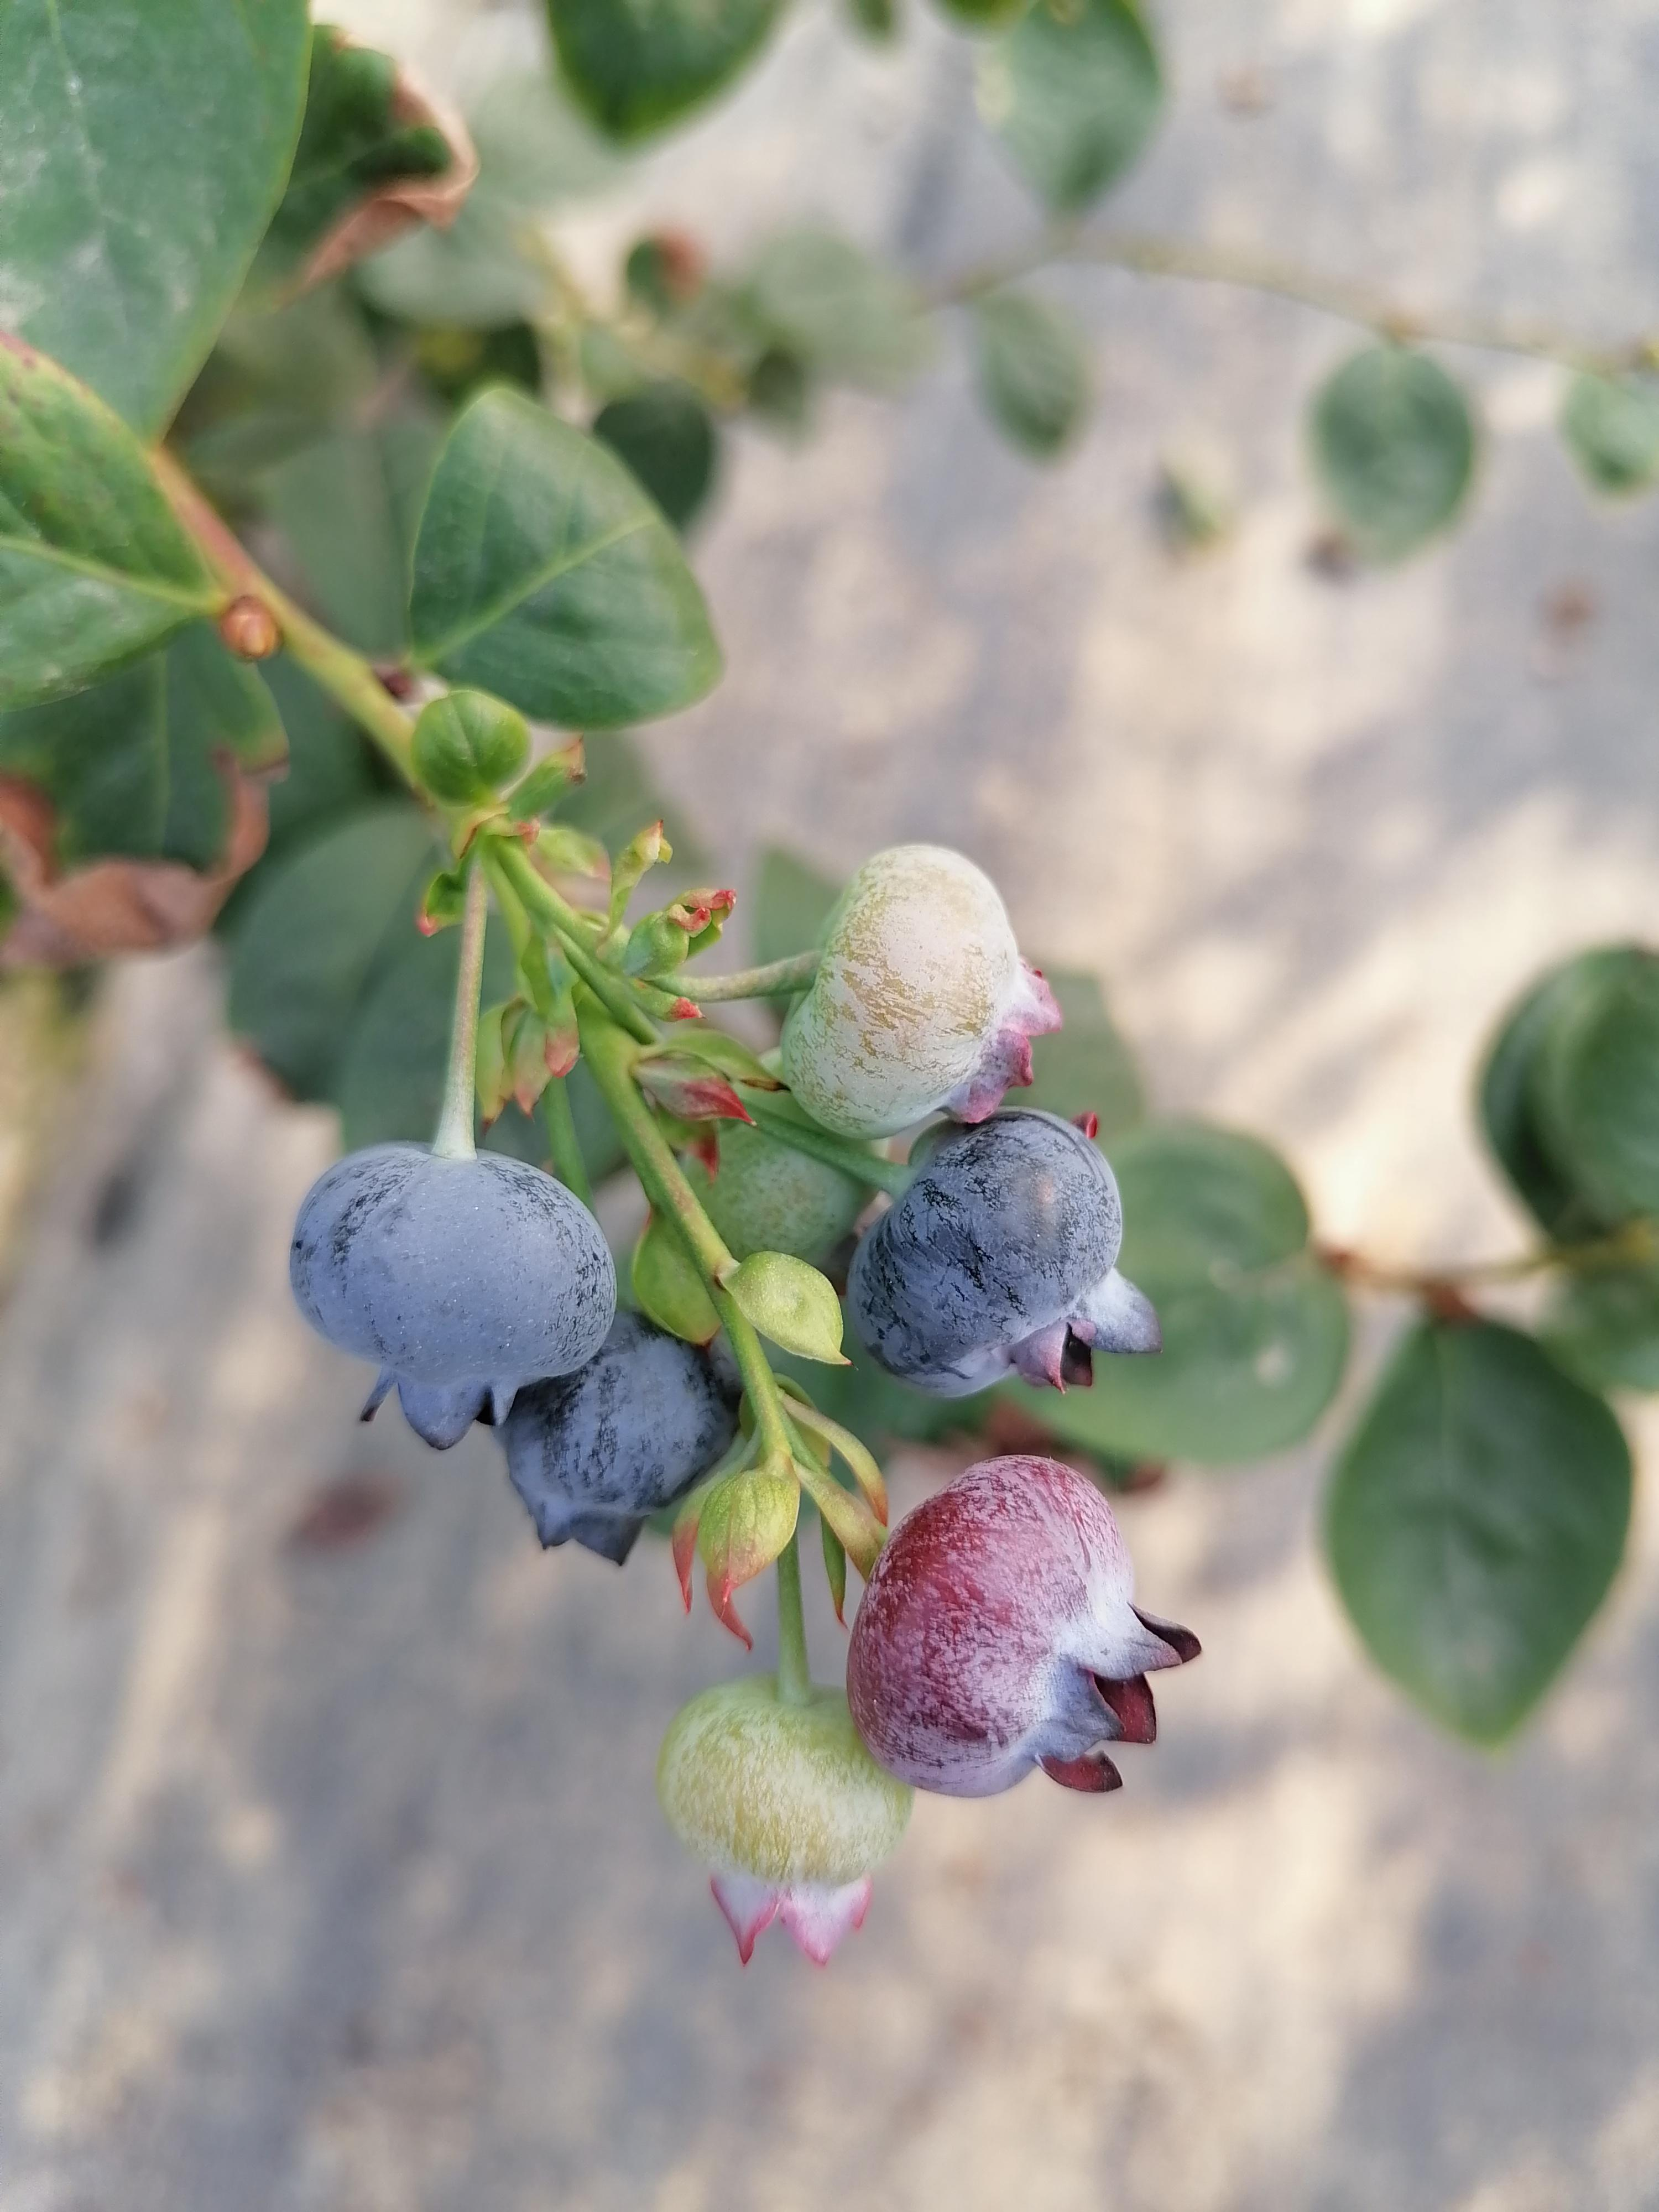ripe-blueberries: (282, 1143, 617, 1460), (847, 1106, 1161, 1397), (502, 1299, 742, 1564)
